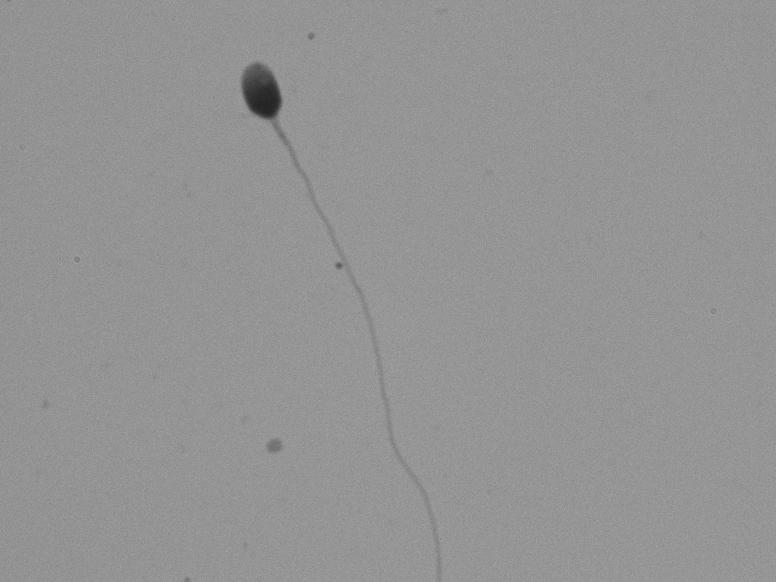Normal: (174, 32, 459, 568)
